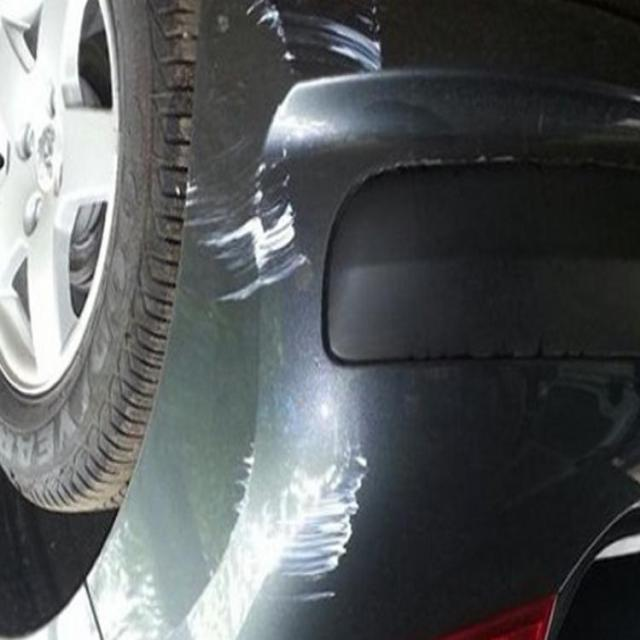scratch: (198, 420, 386, 610), (170, 132, 322, 326), (226, 0, 414, 88)
